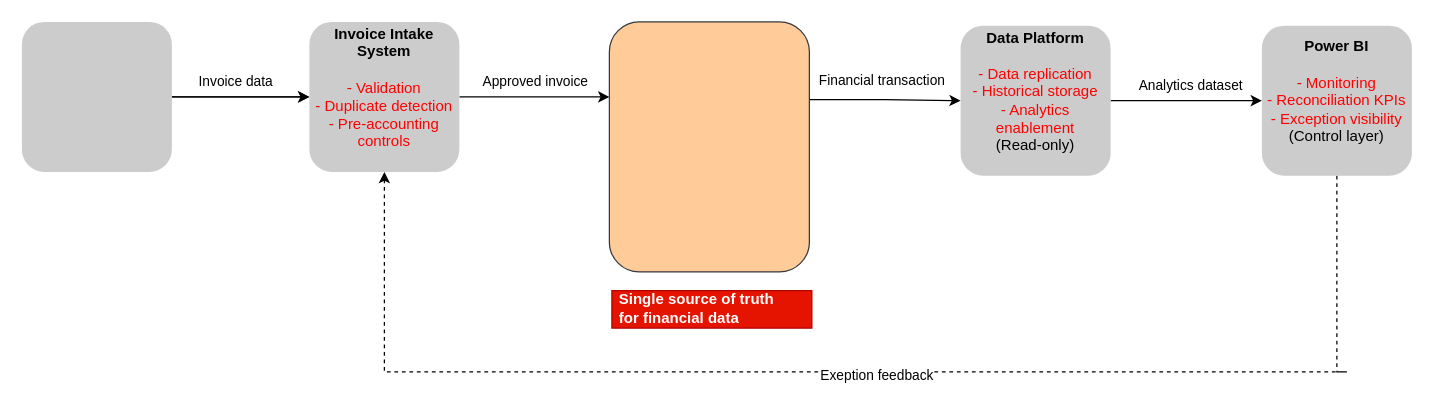
Some shapes in this 1433 by 405 pixel diagram are drawn without their labels. Each missing label, with the centre of its shape:
Accounting ERP (SAP-like) - AR posting - Revenue recognition - Legal accounting: point 708,146
Client / External Systems - Invoice creation - Data submission: point 96,96
